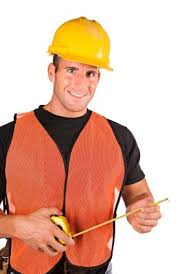hard hat: (47, 17, 114, 70)
